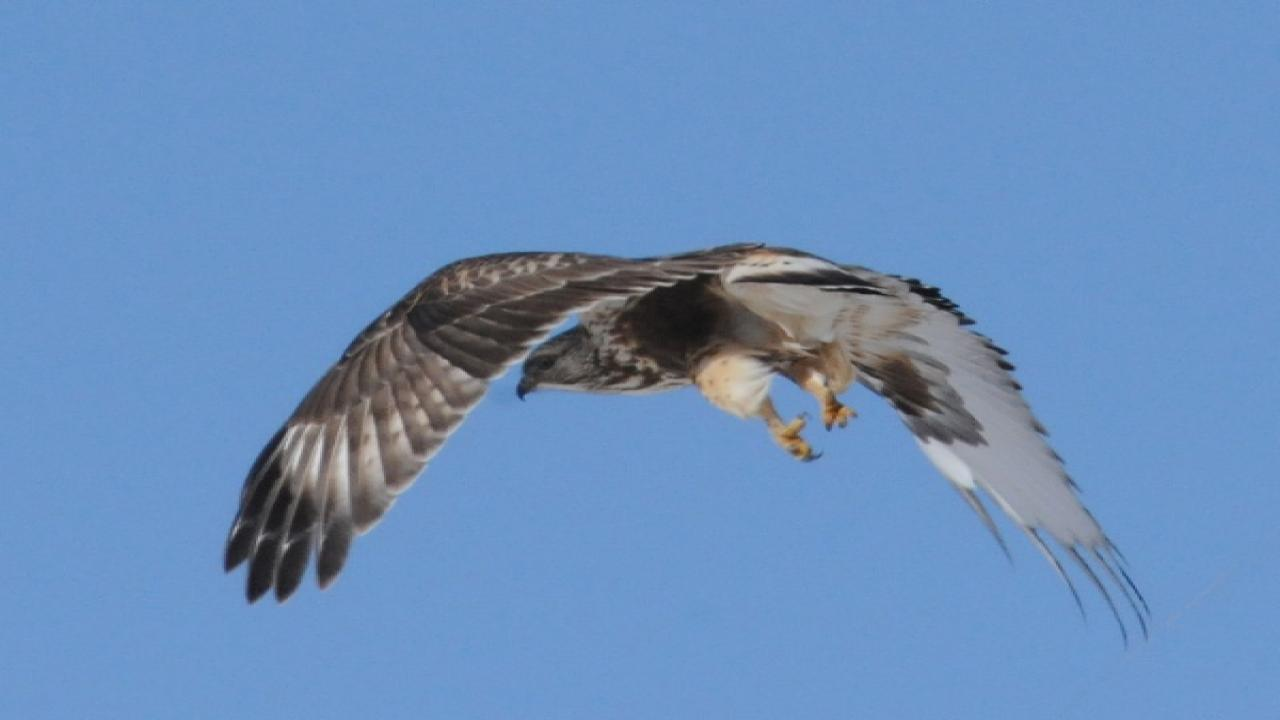Bird: (218, 236, 1168, 658)
